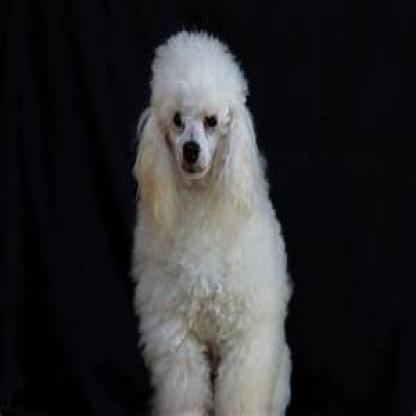dog: (132, 29, 295, 414)
